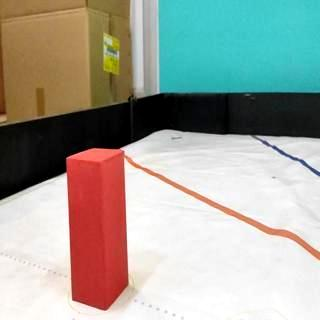redbox: (66, 146, 130, 311)
